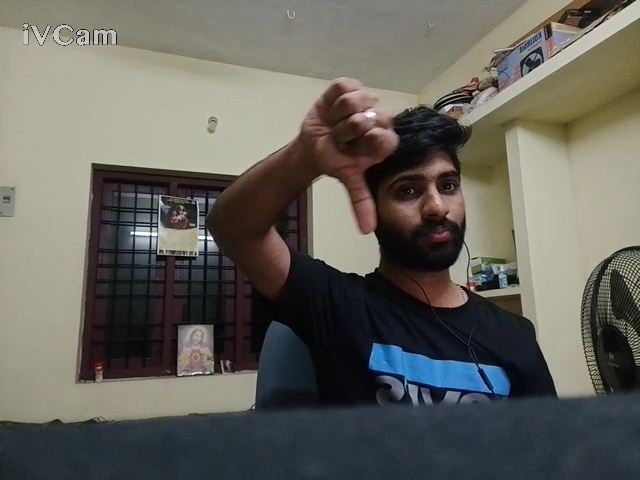No: (253, 68, 429, 244)
